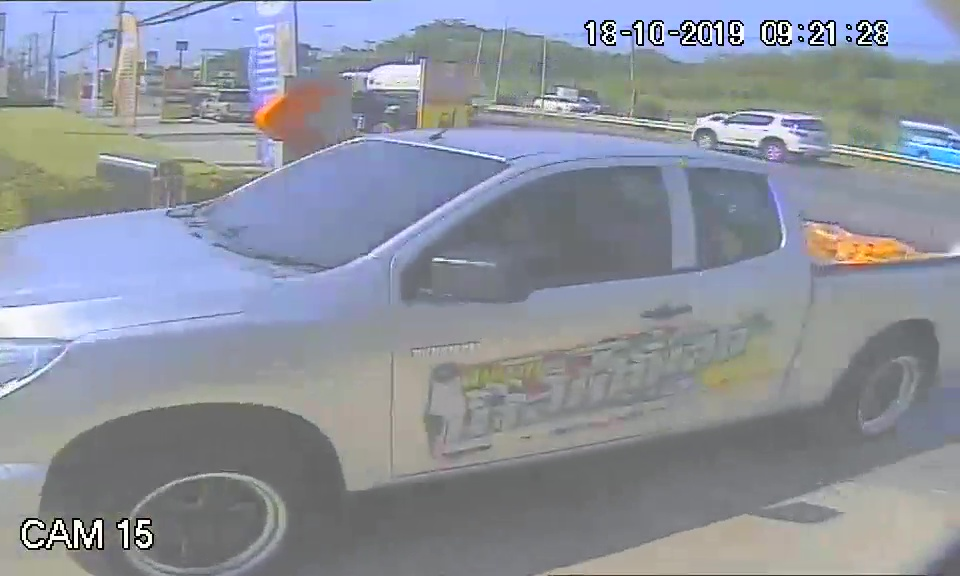pickup: (6, 127, 790, 465)
